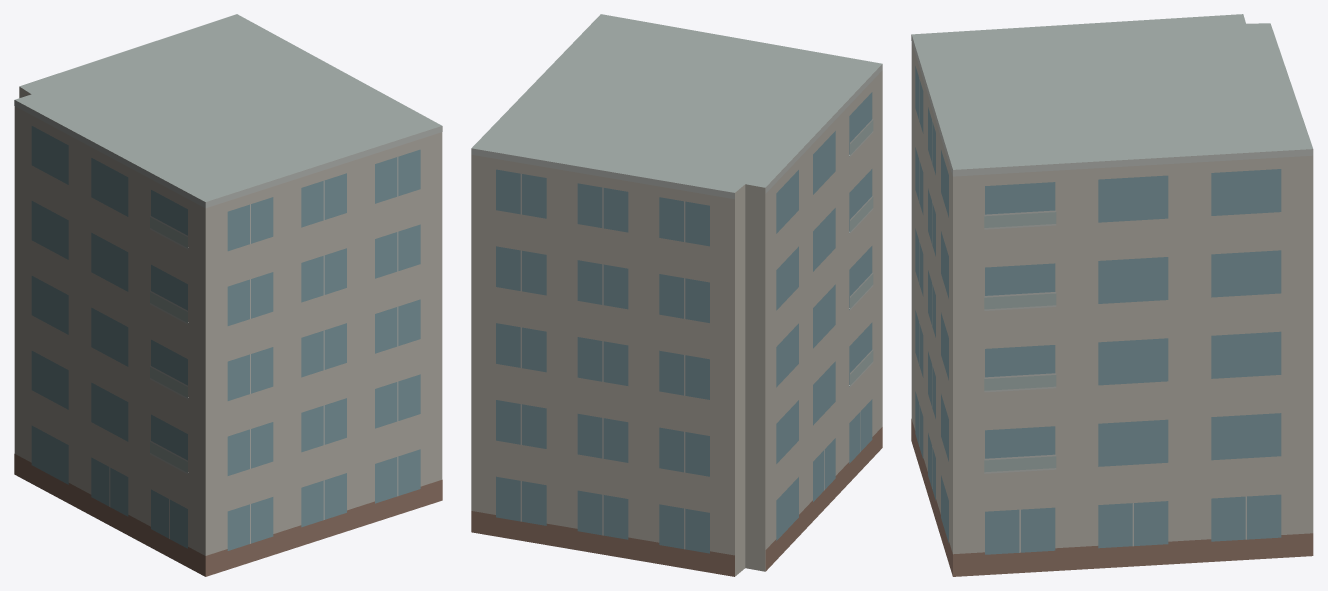
The model's file is survey-upis-32913969.glb.
The picture shows the model from 3 angles, left to right: view 1: azimuth 30°, elevation 25°; view 2: azimuth 150°, elevation 25°; view 3: azimuth 270°, elevation 25°; orthographic projection. The views are drawn at different scales.
Visible parts, largest first — view 1: survey-upis-32913969.tmp; view 2: survey-upis-32913969.tmp; view 3: survey-upis-32913969.tmp.
Part boxes in pixels (left/top/right/bottom): survey-upis-32913969.tmp: left=14, top=14, right=442, bottom=576; survey-upis-32913969.tmp: left=471, top=14, right=882, bottom=576; survey-upis-32913969.tmp: left=911, top=14, right=1313, bottom=576.
Size of the model in its own units: 12.17 by 14.8 by 13.25.
